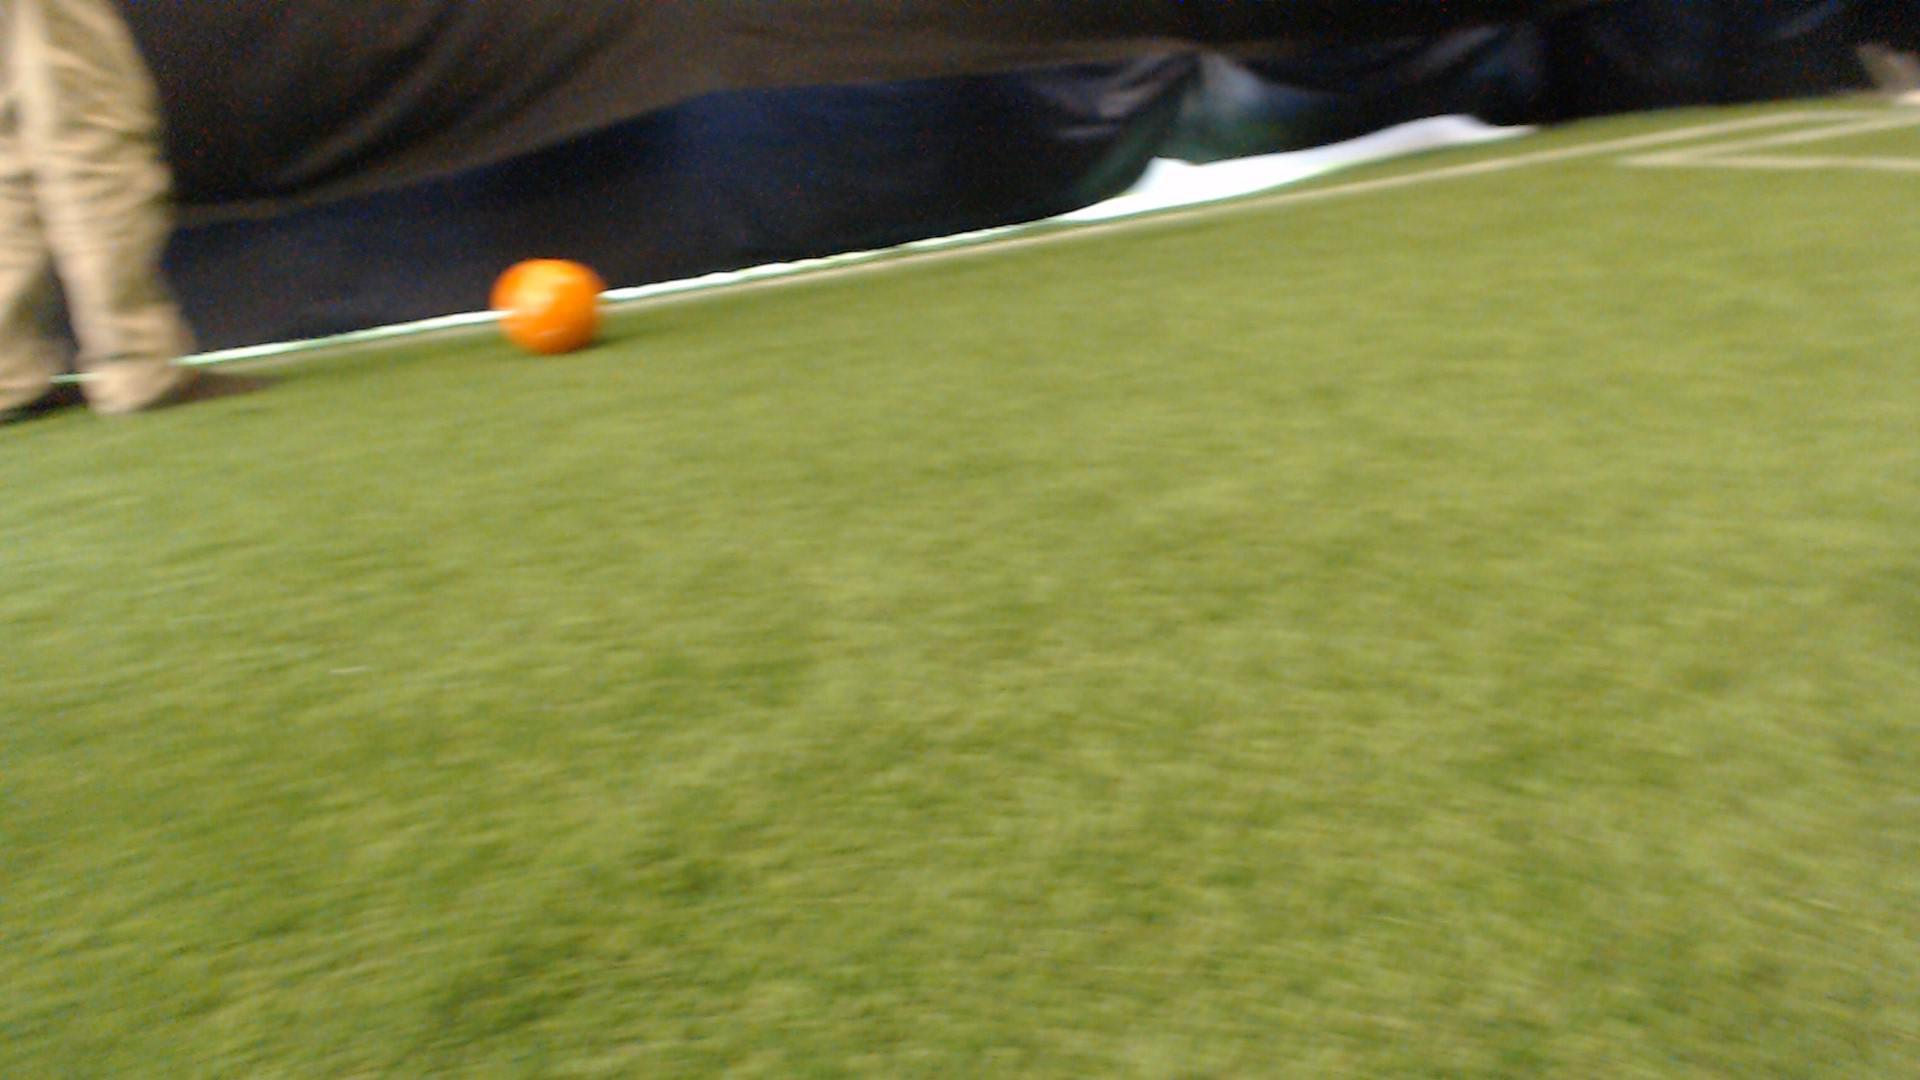bola: (488, 236, 645, 384)
